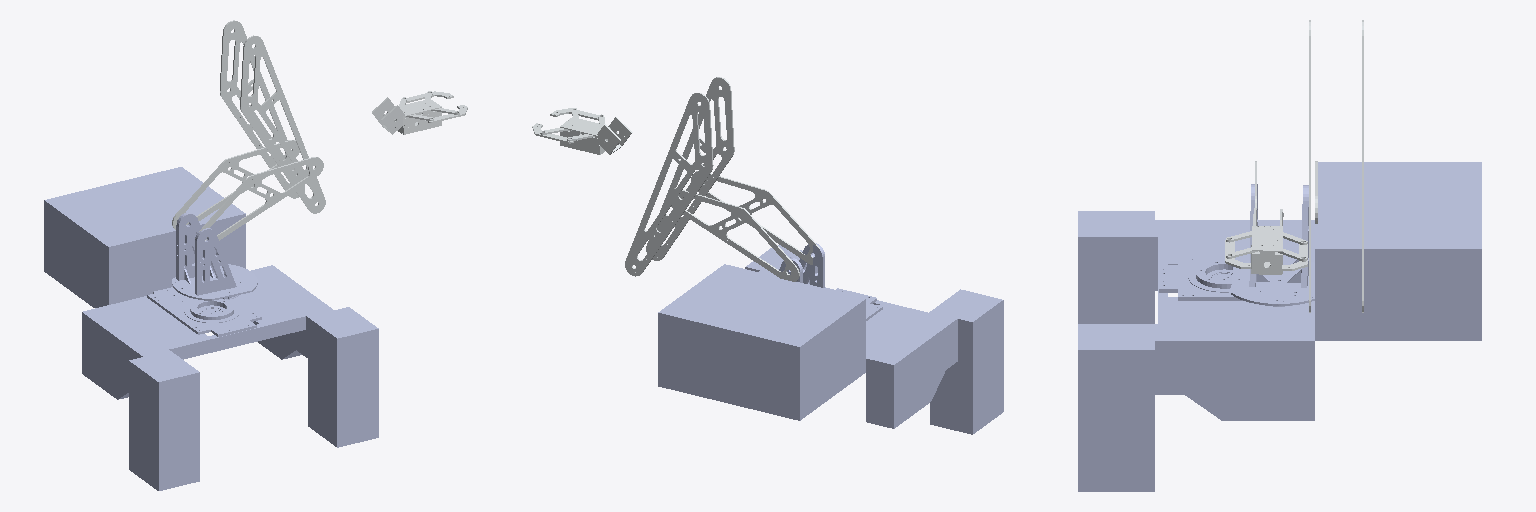
URDF robot description (robot_description):
<?xml version="1.0" encoding="utf-8"?>
<!-- This URDF was automatically created by SolidWorks to URDF Exporter! Originally created by [author] ([email redacted]) 
     Commit Version: 1.6.0-4-g7f85cfe  Build Version: 1.6.7995.38578
     For more information, please see http://wiki.ros.org/sw_urdf_exporter -->
<robot
  name="robot_description">
  <link
    name="arm_base_footprint">
    <inertial>
      <origin
        xyz="-0.0113623041766557 0.0234161491550731 0.0974238570991405"
        rpy="0 0 0" />
      <mass
        value="135.989046906803" />
      <inertia
        ixx="10.1007824142207"
        ixy="0.0509701630561758"
        ixz="4.37579137312956"
        iyy="18.8030712278475"
        iyz="0.0140091332218423"
        izz="23.559395750123" />
    </inertial>
    <visual>
      <origin
        xyz="0 0 0"
        rpy="0 0 0" />
      <geometry>
        <mesh
          filename="package://robot_description/meshes/arm_base_footprint.STL" />
      </geometry>
      <material
        name="">
        <color
          rgba="0.792156862745098 0.819607843137255 0.933333333333333 1" />
      </material>
    </visual>
    <collision>
      <origin
        xyz="0 0 0"
        rpy="0 0 0" />
      <geometry>
        <mesh
          filename="package://robot_description/meshes/arm_base_footprint.STL" />
      </geometry>
    </collision>
  </link>
  <link
    name="arm_base">
    <inertial>
      <origin
        xyz="-0.0295249135051615 0.00117350858879285 0.0797519788027215"
        rpy="0 0 0" />
      <mass
        value="3.22741129192052" />
      <inertia
        ixx="0.0149376437776028"
        ixy="0.000178722626147249"
        ixz="0.00163106022352945"
        iyy="0.0188319350106929"
        iyz="-6.89894445225612E-05"
        izz="0.0151539463791368" />
    </inertial>
    <visual>
      <origin
        xyz="0 0 0"
        rpy="0 0 0" />
      <geometry>
        <mesh
          filename="package://robot_description/meshes/arm_base.STL" />
      </geometry>
      <material
        name="">
        <color
          rgba="0.796078431372549 0.823529411764706 0.937254901960784 1" />
      </material>
    </visual>
    <collision>
      <origin
        xyz="0 0 0"
        rpy="0 0 0" />
      <geometry>
        <mesh
          filename="package://robot_description/meshes/arm_base.STL" />
      </geometry>
    </collision>
  </link>
  <joint
    name="arm_base_joint"
    type="revolute">
    <origin
      xyz="0.11824 0.025047 0.13851"
      rpy="0 0 0" />
    <parent
      link="arm_base_footprint" />
    <child
      link="arm_base" />
    <axis
      xyz="0 0 1" />
    <limit
      lower="-3.14"
      upper="3.14"
      effort="10"
      velocity="10" />
  </joint>
  <link
    name="arm_shoulder">
    <inertial>
      <origin
        xyz="0.141730053782291 0.0543967706458683 0.179330333699823"
        rpy="0 0 0" />
      <mass
        value="0.974957548893571" />
      <inertia
        ixx="0.0161693352235825"
        ixy="0.000337412576528737"
        ixz="-0.00921960443912687"
        iyy="0.0241493073427018"
        iyz="0.000389133806114854"
        izz="0.00801500710232347" />
    </inertial>
    <visual>
      <origin
        xyz="0 0 0"
        rpy="0 0 0" />
      <geometry>
        <mesh
          filename="package://robot_description/meshes/arm_shoulder.STL" />
      </geometry>
      <material
        name="">
        <color
          rgba="0.898039215686275 0.917647058823529 0.929411764705882 1" />
      </material>
    </visual>
    <collision>
      <origin
        xyz="0 0 0"
        rpy="0 0 0" />
      <geometry>
        <mesh
          filename="package://robot_description/meshes/arm_shoulder.STL" />
      </geometry>
    </collision>
  </link>
  <joint
    name="arm_shoulder_joint"
    type="revolute">
    <origin
      xyz="-0.072332 -0.057326 0.22575"
      rpy="0 0 0" />
    <parent
      link="arm_base" />
    <child
      link="arm_shoulder" />
    <axis
      xyz="0 1 0" />
    <limit
      lower="-1.57"
      upper="1.57"
      effort="10"
      velocity="10" />
  </joint>
  <link
    name="arm_elbow">
    <inertial>
      <origin
        xyz="0.149526134900267 -0.0921124744438282 0.0070189236592052"
        rpy="0 0 0" />
      <mass
        value="1.84402735327987" />
      <inertia
        ixx="0.0148226130755206"
        ixy="0.00317039692700635"
        ixz="0.0282586448535087"
        iyy="0.0898032128436468"
        iyz="-0.0011927315954158"
        izz="0.075260622201102" />
    </inertial>
    <visual>
      <origin
        xyz="0 0 0"
        rpy="0 0 0" />
      <geometry>
        <mesh
          filename="package://robot_description/meshes/arm_elbow.STL" />
      </geometry>
      <material
        name="">
        <color
          rgba="0.898039215686275 0.917647058823529 0.929411764705882 1" />
      </material>
    </visual>
    <collision>
      <origin
        xyz="0 0 0"
        rpy="0 0 0" />
      <geometry>
        <mesh
          filename="package://robot_description/meshes/arm_elbow.STL" />
      </geometry>
    </collision>
  </link>
  <joint
    name="arm_elbow_joint"
    type="revolute">
    <origin
      xyz="0.25455 0.13544 0.3837"
      rpy="0 0 0" />
    <parent
      link="arm_shoulder" />
    <child
      link="arm_elbow" />
    <axis
      xyz="0 1 0" />
    <limit
      lower="-1.57"
      upper="1.57"
      effort="10"
      velocity="10" />
  </joint>
  <link
    name="arm_wrist">
    <inertial>
      <origin
        xyz="0.0013392937554404 -0.0762345627405477 -0.00681521956011"
        rpy="0 0 0" />
      <mass
        value="0.266662965128272" />
      <inertia
        ixx="0.00041671523167978"
        ixy="-5.39381999724103E-06"
        ixz="1.20205609305648E-05"
        iyy="0.000295895292898398"
        iyz="-1.5897886472943E-07"
        izz="0.000406787741636437" />
    </inertial>
    <visual>
      <origin
        xyz="0 0 0"
        rpy="0 0 0" />
      <geometry>
        <mesh
          filename="package://robot_description/meshes/arm_wrist.STL" />
      </geometry>
      <material
        name="">
        <color
          rgba="0.898039215686275 0.917647058823529 0.929411764705882 1" />
      </material>
    </visual>
    <collision>
      <origin
        xyz="0 0 0"
        rpy="0 0 0" />
      <geometry>
        <mesh
          filename="package://robot_description/meshes/arm_wrist.STL" />
      </geometry>
    </collision>
  </link>
  <joint
    name="arm_wrist_joint"
    type="revolute">
    <origin
      xyz="0.49451 -0.030405 -0.11266"
      rpy="0 0 0" />
    <parent
      link="arm_elbow" />
    <child
      link="arm_wrist" />
    <axis
      xyz="0 1 0" />
    <limit
      lower="-1.57"
      upper="1.57"
      effort="10"
      velocity="10" />
  </joint>
  <link
    name="gripper">
    <inertial>
      <origin
        xyz="0.0971698965176901 -0.000200552125748731 0.00821728191151871"
        rpy="0 0 0" />
      <mass
        value="0.635591580585097" />
      <inertia
        ixx="0.000351925210187739"
        ixy="-1.59698712918917E-06"
        ixz="3.60534286105297E-07"
        iyy="0.000974539849325974"
        iyz="5.74444670115383E-06"
        izz="0.00118797819026758" />
    </inertial>
    <visual>
      <origin
        xyz="0 0 0"
        rpy="0 0 0" />
      <geometry>
        <mesh
          filename="package://robot_description/meshes/gripper.STL" />
      </geometry>
      <material
        name="">
        <color
          rgba="0.898039215686275 0.917647058823529 0.929411764705882 1" />
      </material>
    </visual>
    <collision>
      <origin
        xyz="0 0 0"
        rpy="0 0 0" />
      <geometry>
        <mesh
          filename="package://robot_description/meshes/gripper.STL" />
      </geometry>
    </collision>
  </link>
  <joint
    name="gripper_joint"
    type="revolute">
    type="revolute">
    <origin
      xyz="0.014206 -0.078774 -0.024953"
      rpy="0 0 0" />
    <parent
      link="arm_wrist" />
    <child
      link="gripper" />
    <axis
      xyz="1 0 0" />
    <limit
      lower="-3.14"
      upper="3.14"
      effort="10"
      velocity="10" />
  </joint>
</robot>

--- Facts derived from the render (not from the file) ---
Views: 3 orthographic renders of the robot side by side, from view 1: azimuth 30°, elevation 25°; view 2: azimuth 150°, elevation 25°; view 3: azimuth 270°, elevation 25°.
Robot: robot_description — 6 links, 5 joints (5 revolute); root link arm_base_footprint; default pose: all joints at 0.
Links seen in each view (by area): view 1: arm_base_footprint, arm_elbow, arm_base, arm_shoulder, gripper, arm_wrist; view 2: arm_base_footprint, arm_elbow, arm_shoulder, gripper, arm_base, arm_wrist; view 3: arm_base_footprint, arm_base, gripper, arm_elbow.
Link boxes in pixels (left/top/right/bottom): arm_base_footprint: left=44, top=167, right=378, bottom=490; arm_elbow: left=220, top=20, right=325, bottom=213; arm_base: left=172, top=212, right=257, bottom=300; arm_shoulder: left=172, top=140, right=323, bottom=240; gripper: left=398, top=91, right=467, bottom=134; arm_wrist: left=372, top=97, right=406, bottom=134; arm_base_footprint: left=658, top=245, right=1003, bottom=434; arm_elbow: left=625, top=77, right=734, bottom=276; arm_shoulder: left=667, top=171, right=819, bottom=281; gripper: left=532, top=108, right=610, bottom=154; arm_base: left=779, top=243, right=824, bottom=287; arm_wrist: left=595, top=117, right=632, bottom=154; arm_base_footprint: left=1078, top=162, right=1481, bottom=491; arm_base: left=1231, top=184, right=1314, bottom=306; gripper: left=1225, top=226, right=1307, bottom=274; arm_elbow: left=1309, top=20, right=1363, bottom=312.
Bounding box of the posed robot: 1.47 × 1.06 × 1.3 m (x, y, z).
Meshes: 6 distinct files referenced, 6 mesh visuals loaded (6 binary STL).
